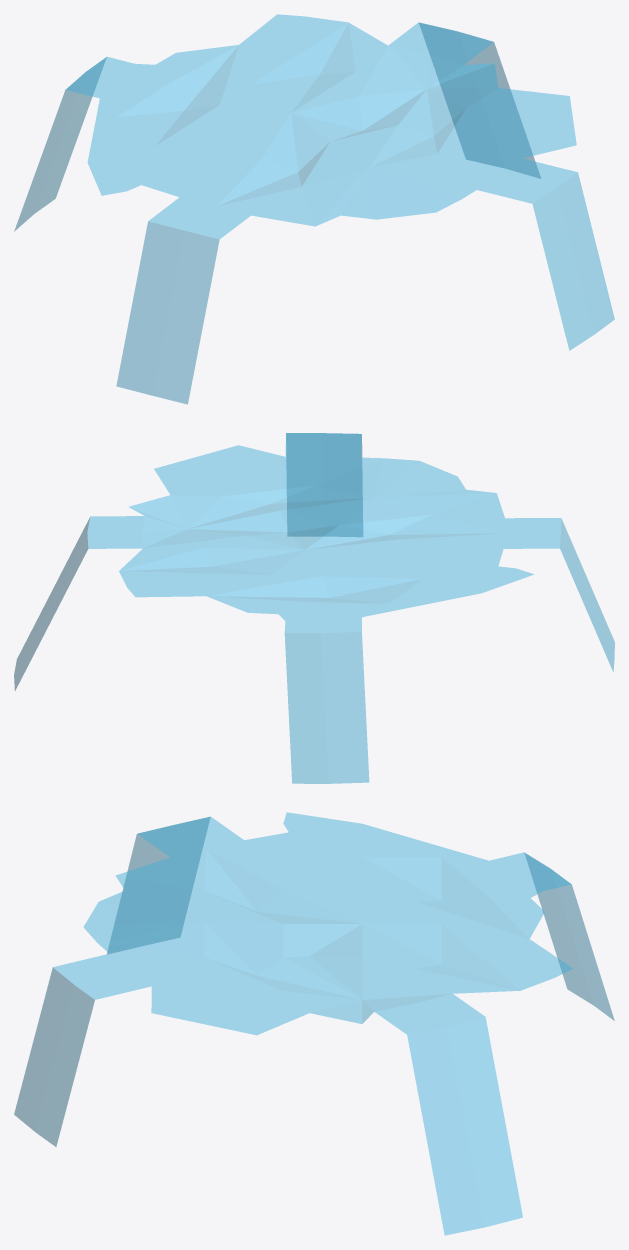
File: water_003.FBX
3 renders of one model, top to bottom at view 1: azimuth 30°, elevation 25°; view 2: azimuth 150°, elevation 25°; view 3: azimuth 270°, elevation 25°, orthographic. The views are drawn at different scales.
Parts seen in each view (by area): view 1: water_003; view 2: water_003; view 3: water_003.
Part boxes in pixels (<box>): water_003: <box>14,14,614,404</box>; water_003: <box>14,433,614,783</box>; water_003: <box>14,812,614,1235</box>.
Bounding box in the file's own units: 1.51 × 0.4399 × 1.4.
